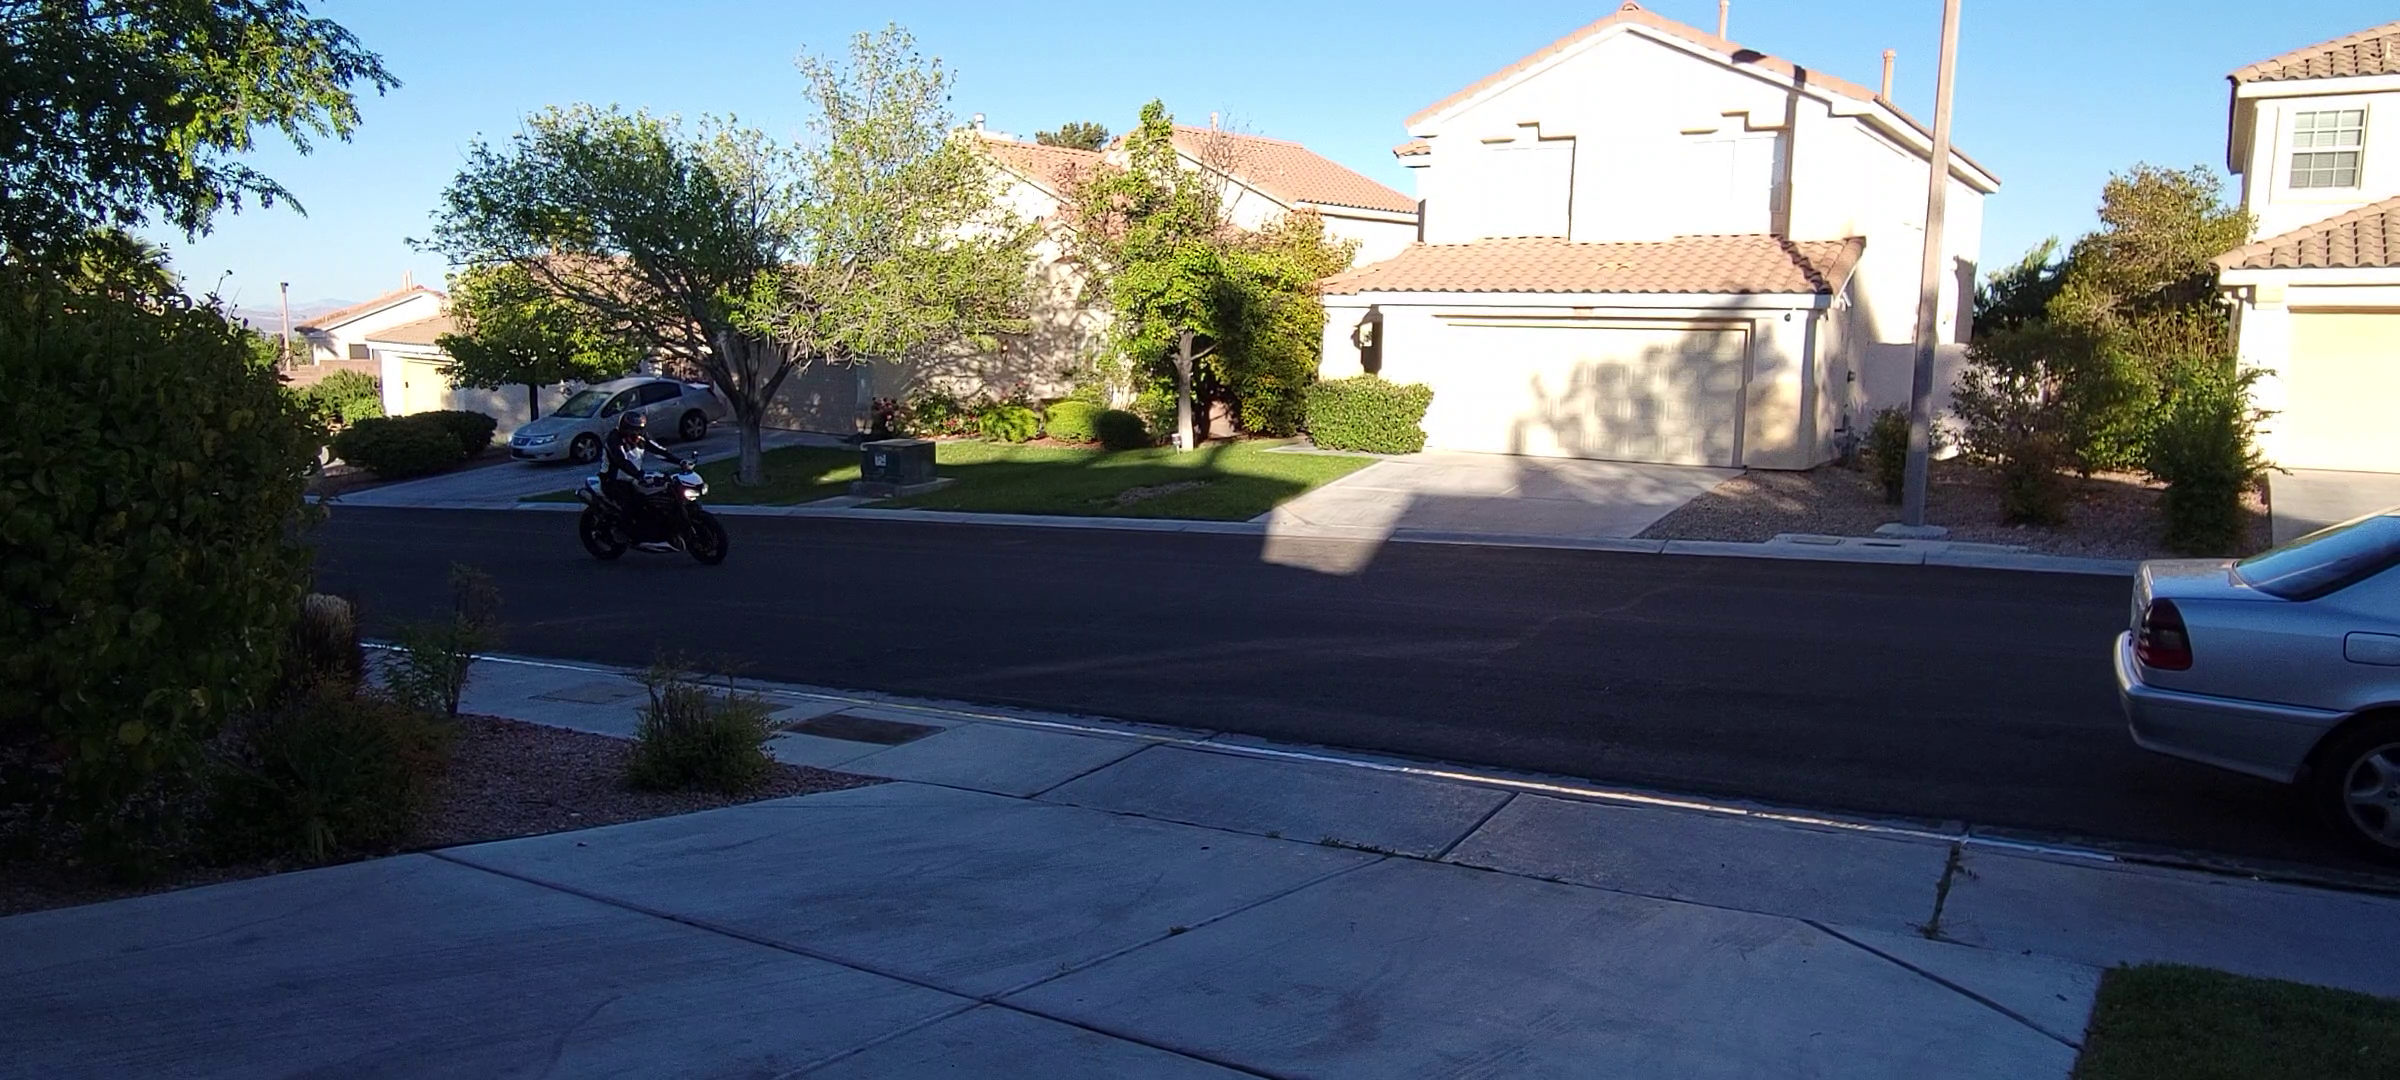other bike: (568, 407, 732, 571)
